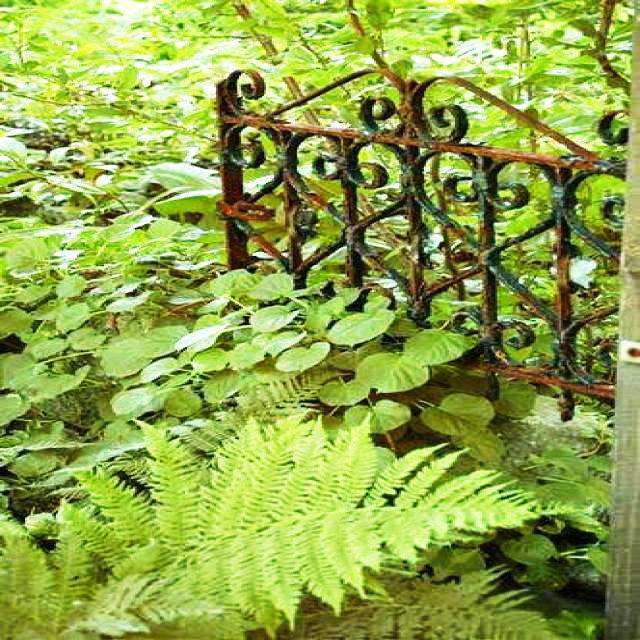Corrosion: (219, 68, 627, 400), (599, 110, 631, 144)
